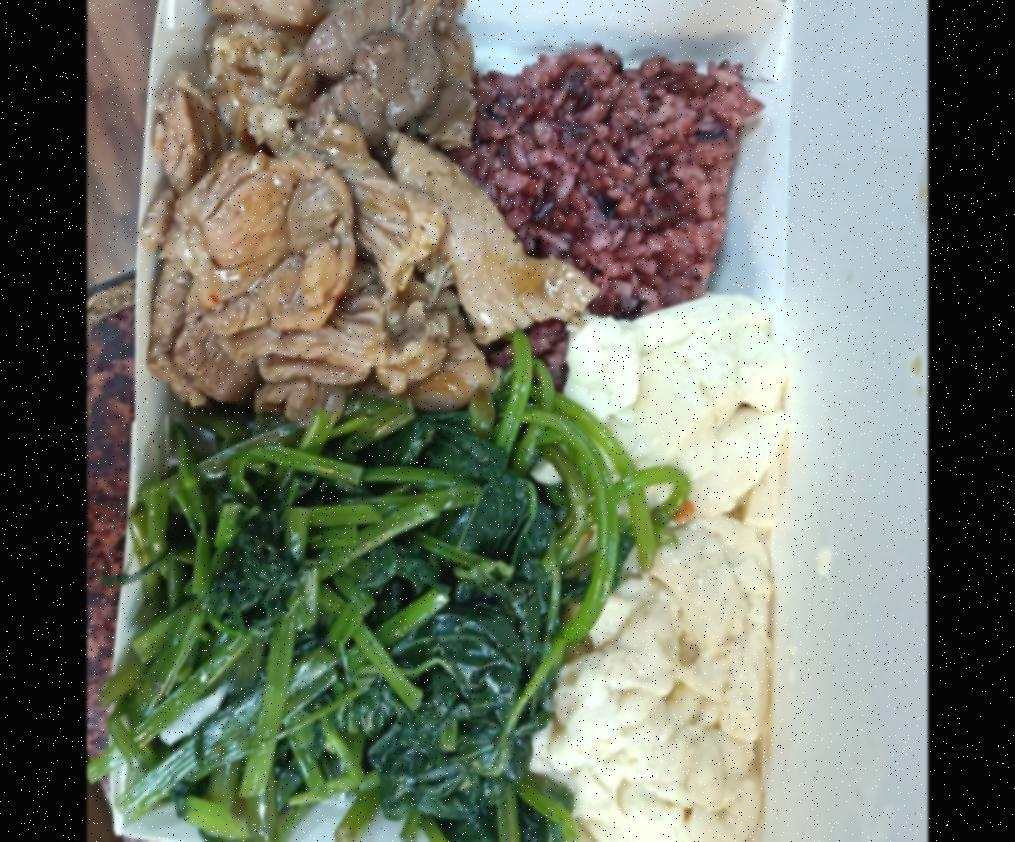box: (99, 0, 812, 842)
pork with scrambled eggs: (162, 0, 522, 401)
purple rice: (221, 42, 734, 402)
side dish: (570, 313, 774, 838), (115, 408, 358, 826), (349, 406, 548, 838)
